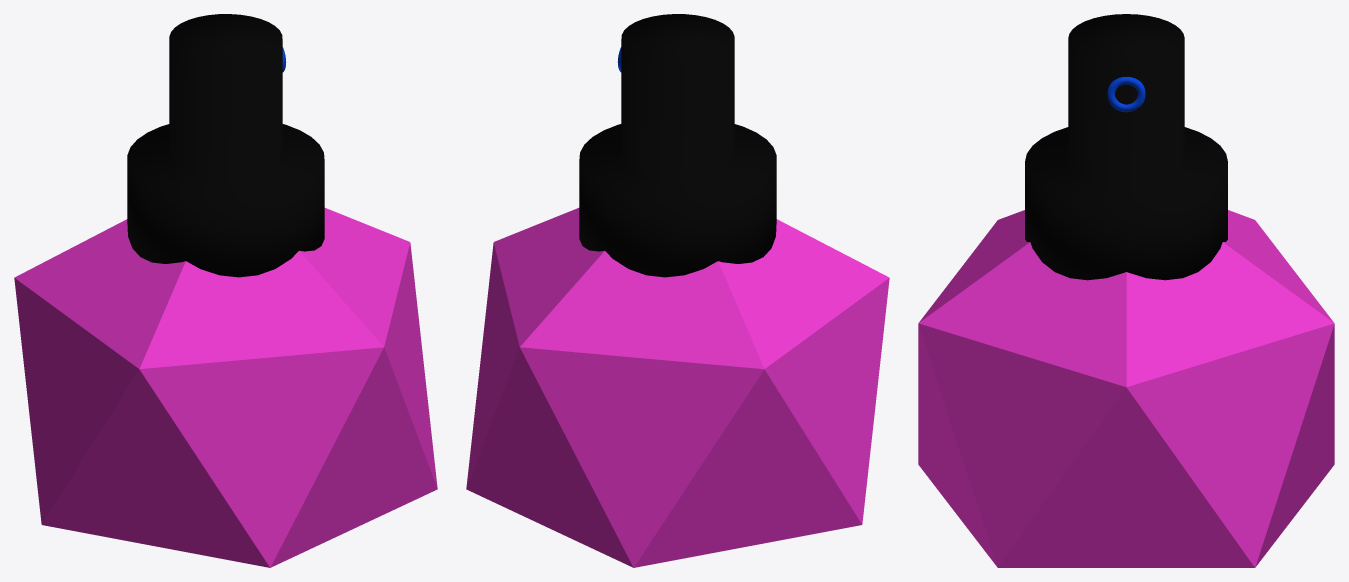
Rendered from Pink Perfume.fbx.
The picture shows the model from 3 angles, left to right: view 1: azimuth 30°, elevation 25°; view 2: azimuth 150°, elevation 25°; view 3: azimuth 270°, elevation 25°; orthographic projection. The views are drawn at different scales.
Parts seen in each view (by area): view 1: Pink Perfume; view 2: Pink Perfume; view 3: Pink Perfume.
Part boxes in pixels (bbox=[...]): Pink Perfume: bbox=[14, 14, 437, 567]; Pink Perfume: bbox=[466, 14, 889, 567]; Pink Perfume: bbox=[918, 14, 1334, 567].
Size of the model in its own units: 179 by 211 by 170.
